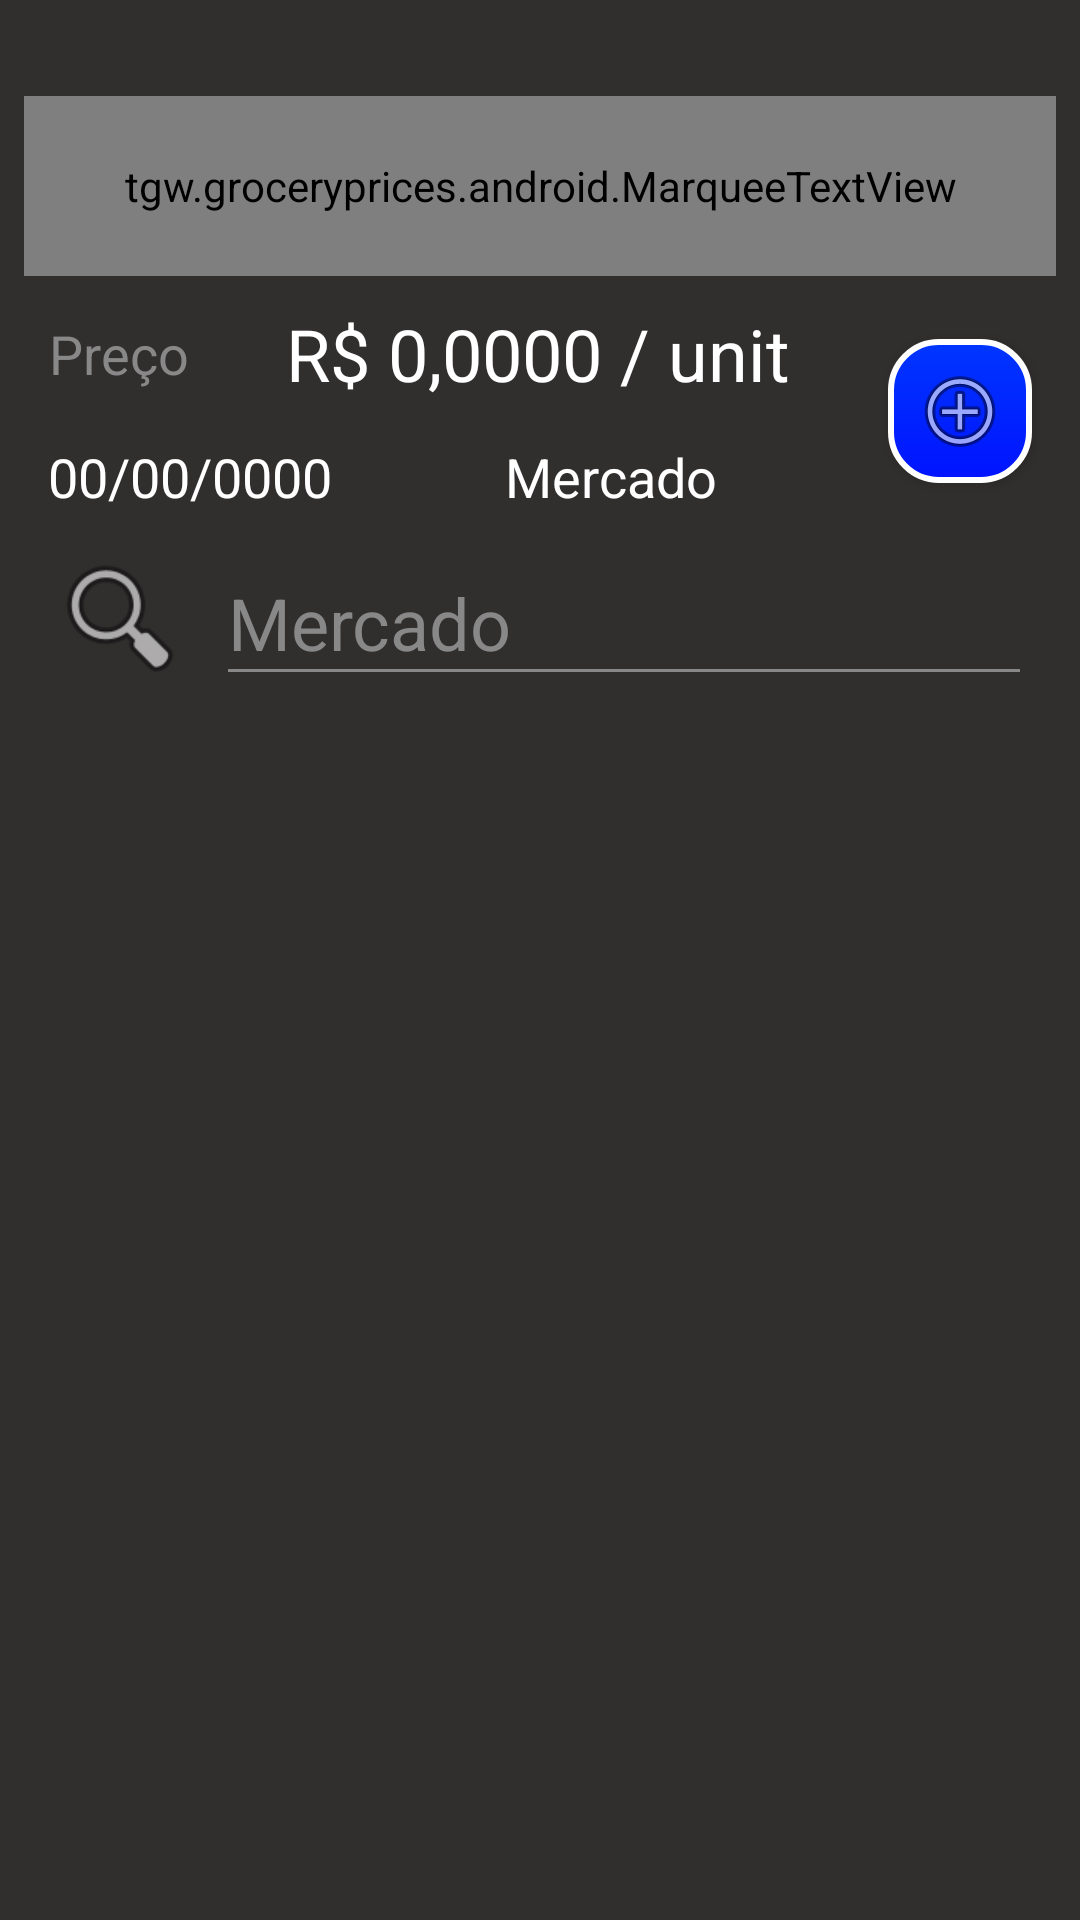

Screen size 1080*1920. Icon name, then its center in pixels as (x=x, y=y):
add: (x=960, y=411)
search: (x=119, y=619)
